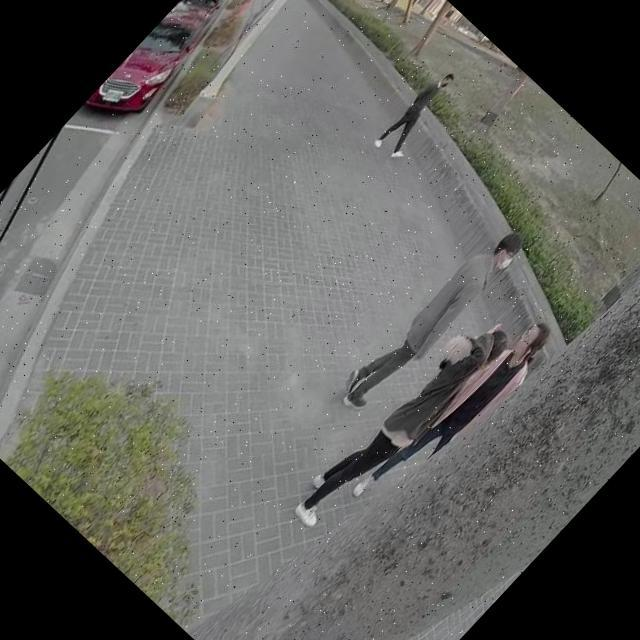person: (288, 302, 515, 540), (354, 309, 564, 530), (334, 216, 530, 421), (373, 65, 469, 165)
